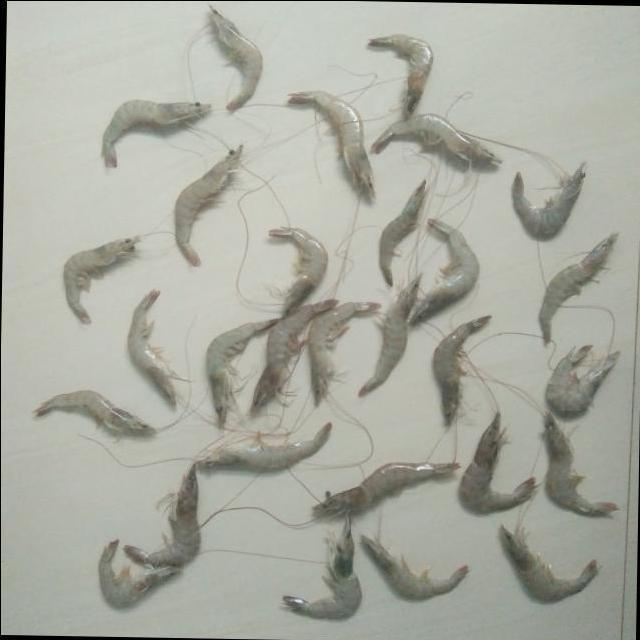shrimp: (249, 299, 337, 412), (287, 90, 374, 198), (539, 233, 618, 343), (173, 144, 241, 266), (281, 515, 360, 620), (458, 412, 538, 513), (122, 464, 199, 568), (204, 318, 277, 427), (357, 274, 420, 396), (306, 302, 380, 405), (499, 526, 598, 602), (100, 98, 209, 167), (544, 413, 617, 516), (312, 463, 459, 514), (409, 218, 479, 323), (359, 536, 468, 600), (126, 289, 186, 405), (61, 235, 139, 324), (432, 315, 491, 425), (370, 113, 501, 162), (194, 423, 330, 469), (511, 161, 585, 238), (96, 541, 179, 609), (208, 4, 261, 110), (32, 390, 153, 436), (368, 33, 432, 118), (267, 227, 327, 316), (545, 345, 619, 412), (379, 179, 425, 286)
